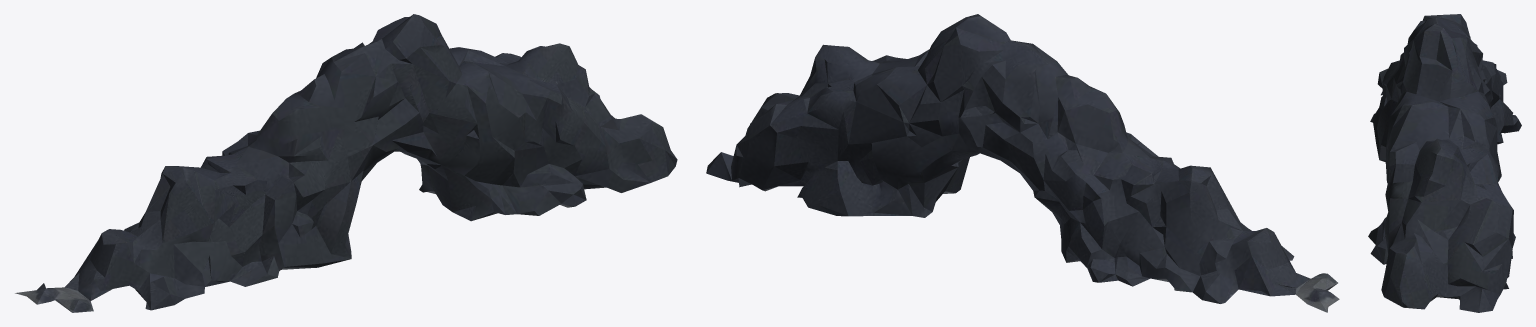
File: sea-arch.lod.glb
The picture shows the model from 3 angles, left to right: view 1: azimuth 30°, elevation 25°; view 2: azimuth 150°, elevation 25°; view 3: azimuth 270°, elevation 25°; orthographic projection. The views are drawn at different scales.
Visible parts, largest first — view 1: output_unwrapped; view 2: output_unwrapped; view 3: output_unwrapped.
Boxes of the visible parts, x1,y1,x2,y2 form: output_unwrapped: (15, 14, 677, 312); output_unwrapped: (706, 14, 1339, 312); output_unwrapped: (1368, 14, 1521, 312).
Bounding box in the file's own units: 1.88 × 0.5677 × 0.4433.
Materials: 1 (1 with a texture image).
